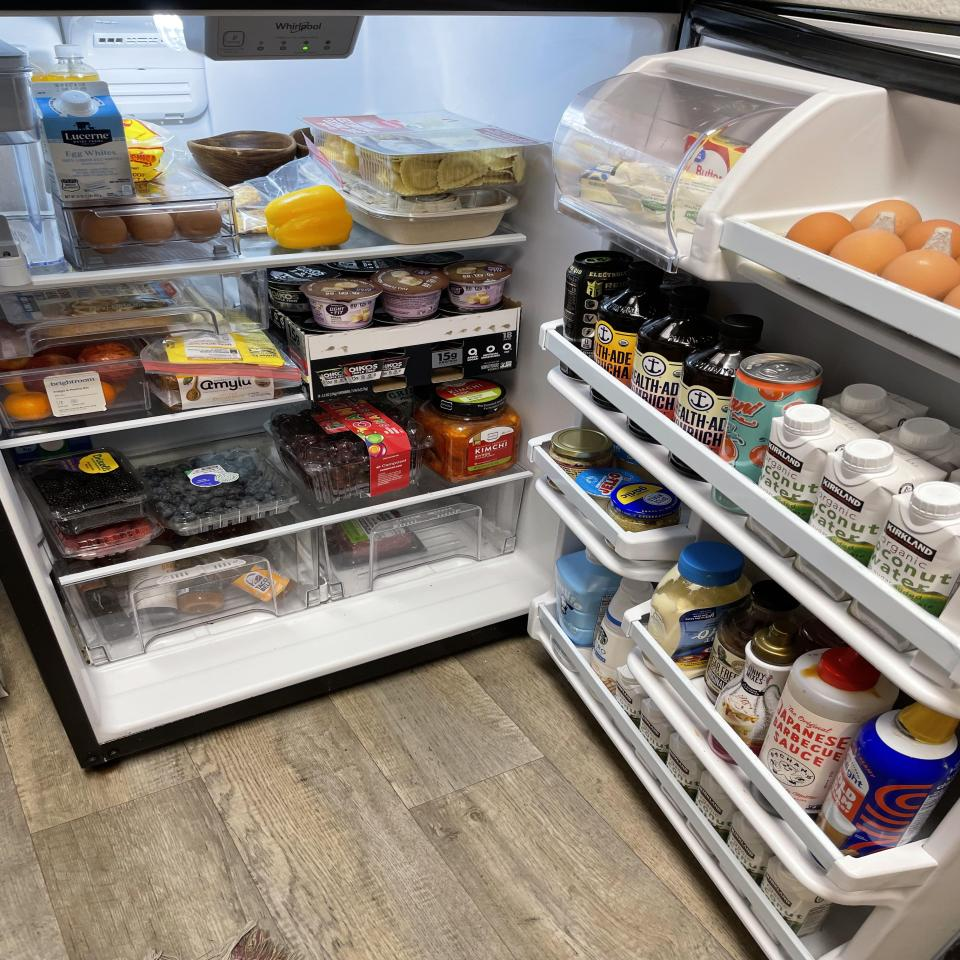Huevos: (784, 200, 960, 312), (71, 196, 224, 254)
Leche: (555, 547, 624, 673)
Mantequilla: (680, 132, 759, 181), (580, 164, 624, 208)
Manzana: (79, 343, 140, 383), (22, 354, 79, 392)
